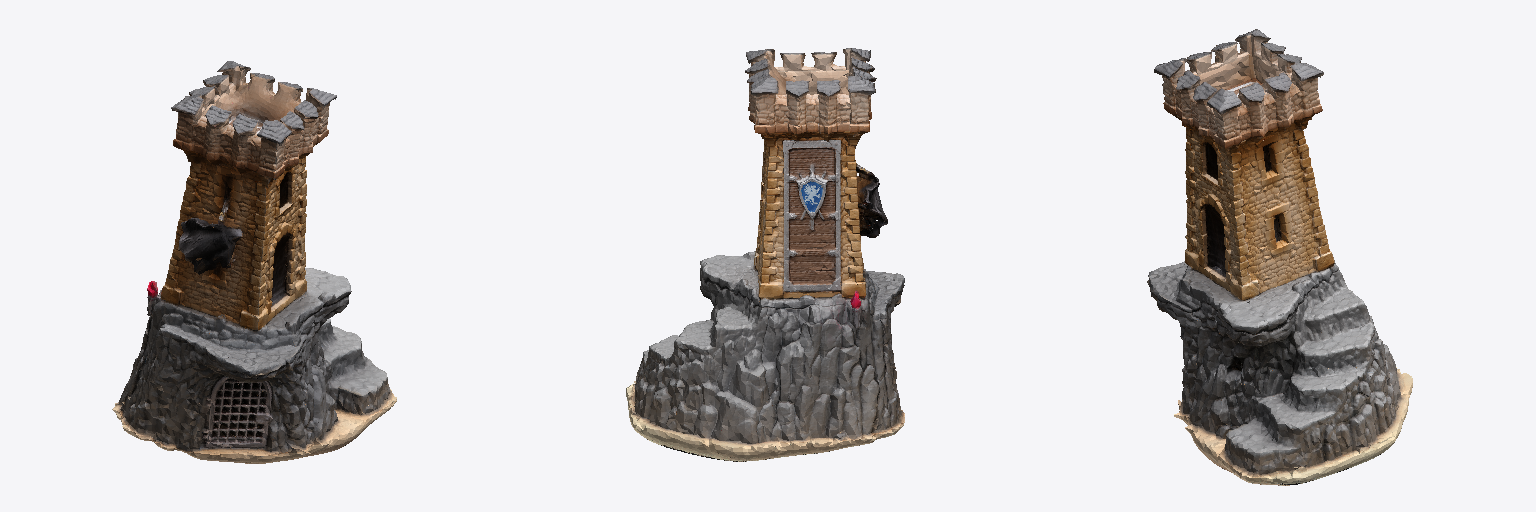
3 views of the same model, side by side, from view 1: azimuth 30°, elevation 25°; view 2: azimuth 150°, elevation 25°; view 3: azimuth 270°, elevation 25° (orthographic).
Parts seen in each view (by area): view 1: tower; view 2: tower; view 3: tower.
Part boxes in pixels (bbox=[...]): tower: bbox=[112, 61, 396, 463]; tower: bbox=[626, 48, 904, 461]; tower: bbox=[1147, 29, 1412, 485].
Size of the model in its own units: 0.5276 by 0.7153 by 0.461.
1 materials, 1 textured.